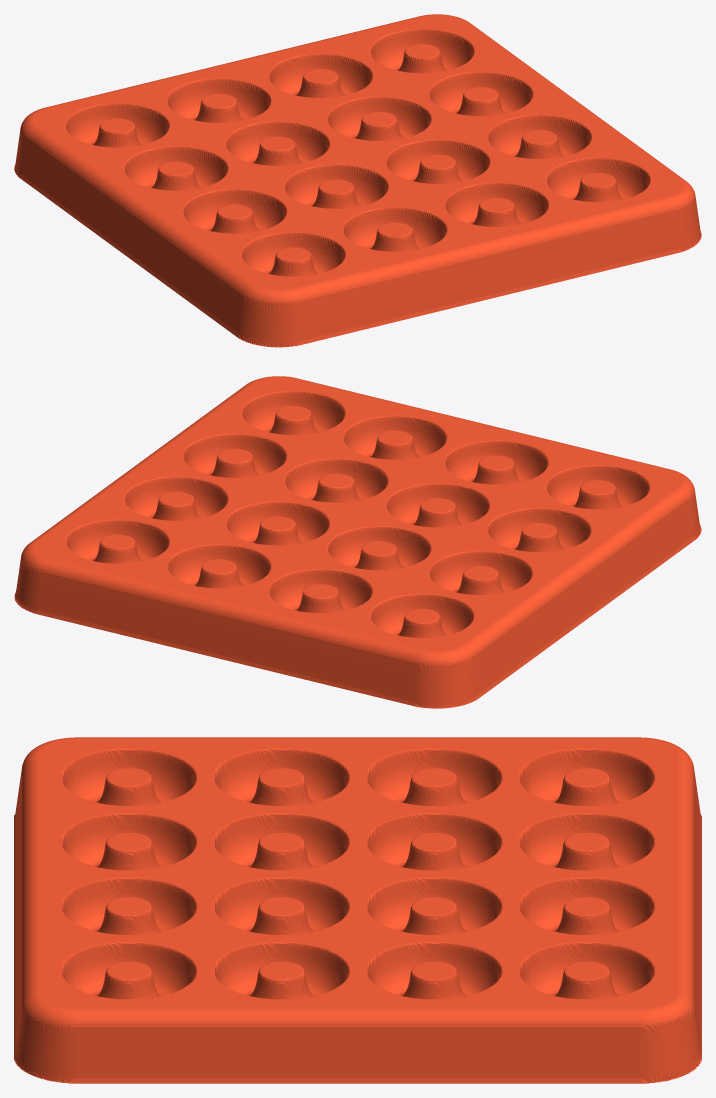
Rendered from mold.glb.
The picture shows the model from 3 angles, top to bottom: view 1: azimuth 30°, elevation 25°; view 2: azimuth 150°, elevation 25°; view 3: azimuth 270°, elevation 25°; orthographic projection. The views are drawn at different scales.
Visible parts, largest first — view 1: geometry_0; view 2: geometry_0; view 3: geometry_0.
Part boxes in pixels (x1,y1,x2,y2): geometry_0: (14, 14, 701, 347); geometry_0: (14, 376, 701, 708); geometry_0: (14, 737, 701, 1083).
Bounding box in the file's own units: 0.0992 × 0.0102 × 0.0992.
